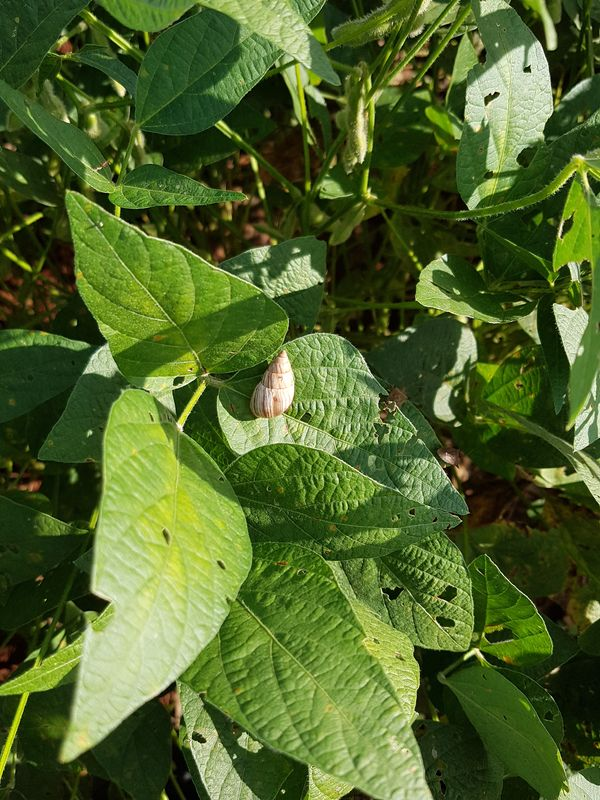Euschistus_heros_adulto: (428, 440, 471, 475), (378, 380, 414, 414)
Gastropoda: (237, 340, 311, 427)
